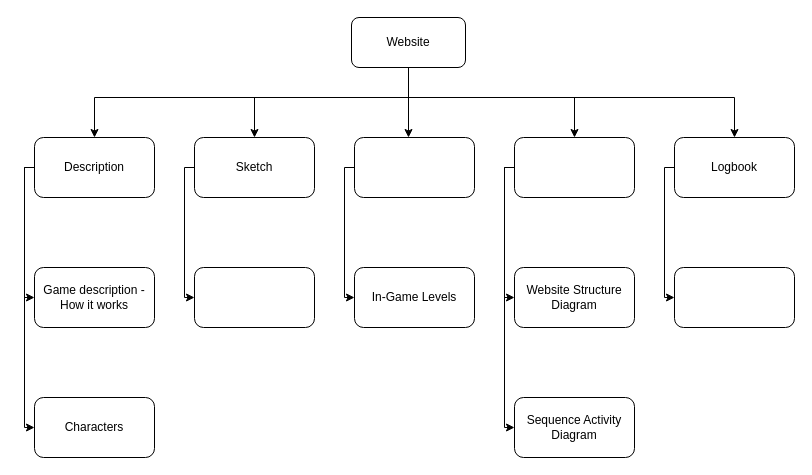
Image size: 812x475. Some labels were removed from this diagram. Each missing label, with the centre of its shape:
"Flow" belongs at point (574, 167).
"Mockups" belongs at point (414, 167).
"Project Tasks" belongs at point (734, 297).
"Visual References" belongs at point (254, 297).
